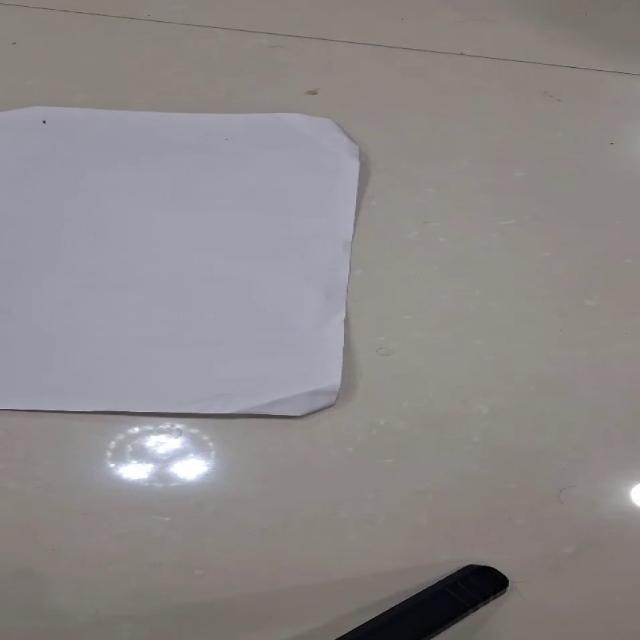paper: (0, 105, 362, 417)
